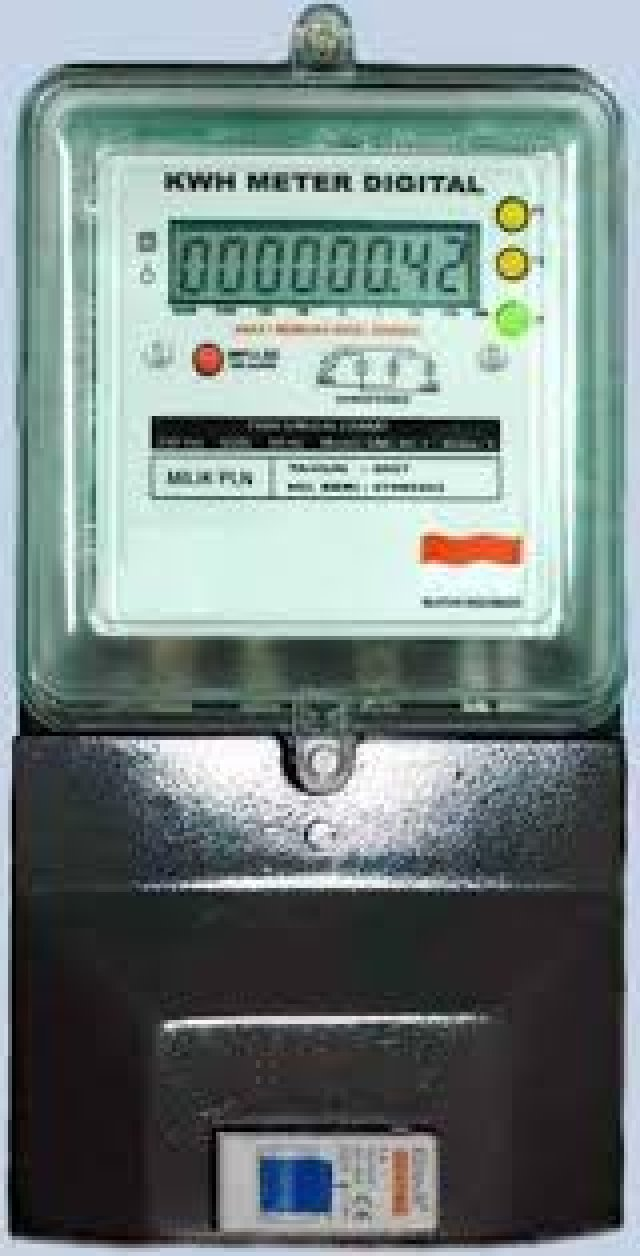box: (168, 221, 481, 310)
